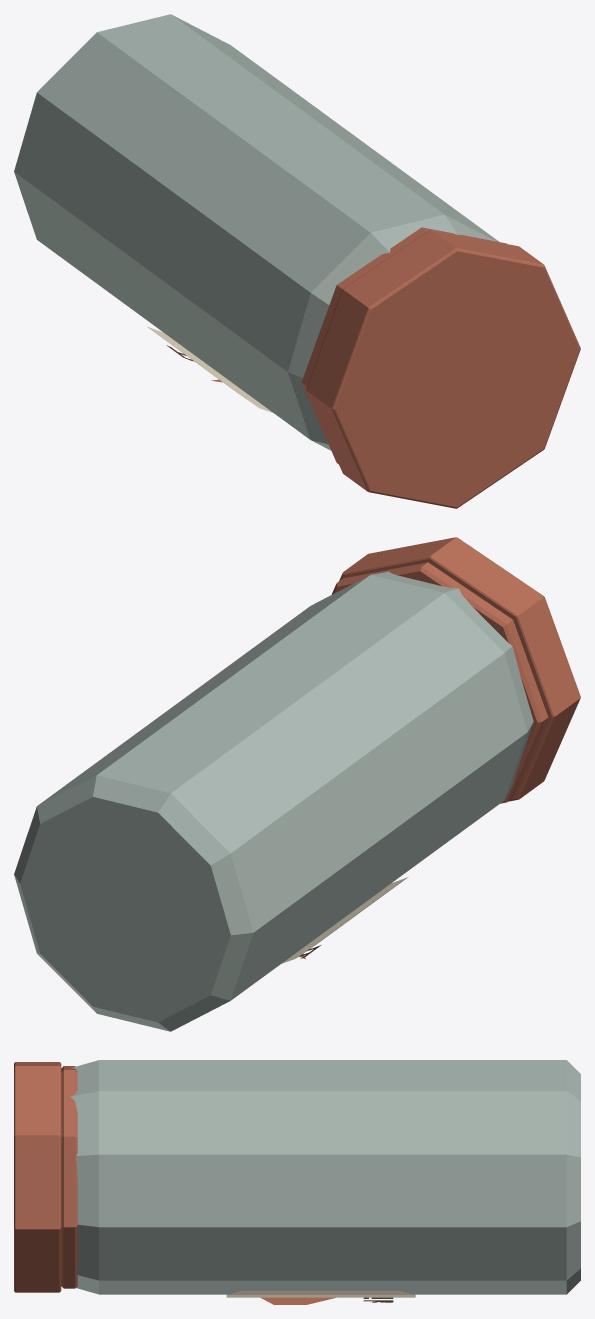
Rendered from paprika.glb.
3 views of the same model, one above another, from view 1: azimuth 30°, elevation 25°; view 2: azimuth 150°, elevation 25°; view 3: azimuth 270°, elevation 25° (orthographic). The views are drawn at different scales.
Visible parts, largest first — view 1: paprika; view 2: paprika; view 3: paprika.
Boxes of the visible parts, x1,y1,x2,y2 form: paprika: [14, 14, 580, 508]; paprika: [14, 537, 580, 1031]; paprika: [14, 1060, 580, 1304].
Bounding box in the file's own units: 0.052 × 0.053 × 0.12.
